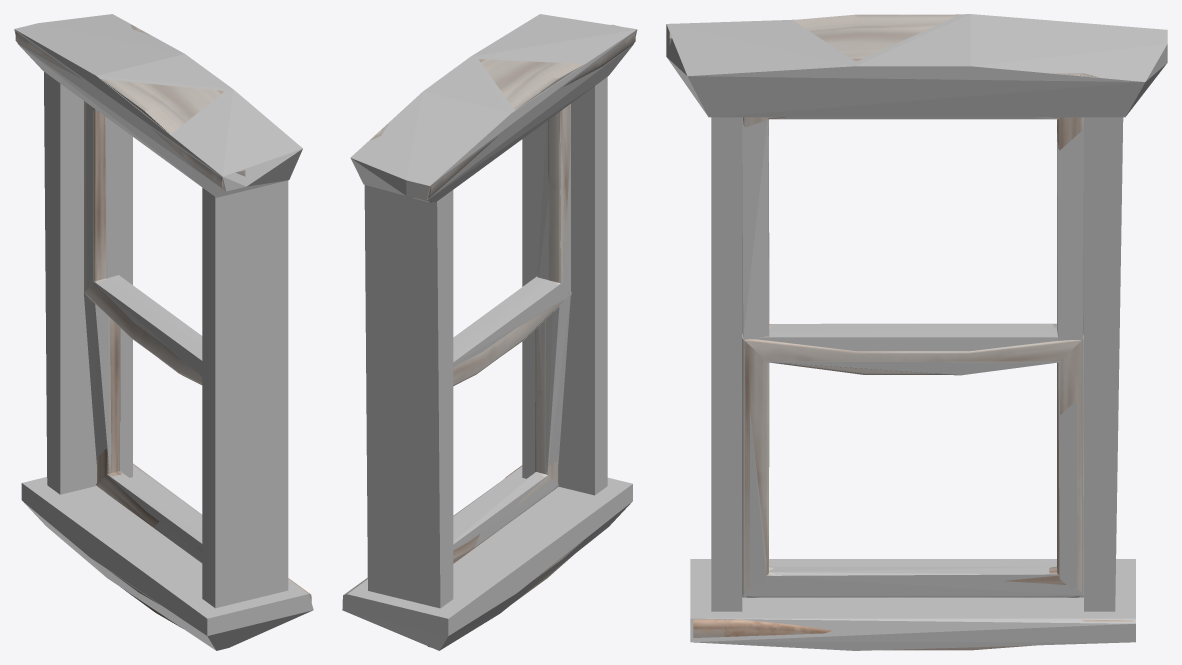
File: SM_PropWindow01TypeA_2_1.fbx
3 renders of one model, left to right at view 1: azimuth 30°, elevation 25°; view 2: azimuth 150°, elevation 25°; view 3: azimuth 270°, elevation 25°, orthographic. The views are drawn at different scales.
Parts seen in each view (by area): view 1: SM_PropWindow01TypeA_2_1_ConvexHulls, SM_PropWindow01TypeA_2_1; view 2: SM_PropWindow01TypeA_2_1_ConvexHulls, SM_PropWindow01TypeA_2_1; view 3: SM_PropWindow01TypeA_2_1_ConvexHulls, SM_PropWindow01TypeA_2_1.
Part boxes in pixels (left/top/right/bottom): SM_PropWindow01TypeA_2_1_ConvexHulls: left=14, top=14, right=313, bottom=650; SM_PropWindow01TypeA_2_1: left=15, top=25, right=311, bottom=628; SM_PropWindow01TypeA_2_1_ConvexHulls: left=342, top=14, right=637, bottom=650; SM_PropWindow01TypeA_2_1: left=347, top=24, right=635, bottom=647; SM_PropWindow01TypeA_2_1_ConvexHulls: left=666, top=14, right=1167, bottom=650; SM_PropWindow01TypeA_2_1: left=669, top=14, right=1132, bottom=650.
Bounding box in the file's own units: 45.11 × 153 × 205.
Materials: 2 (1 with a texture image).
